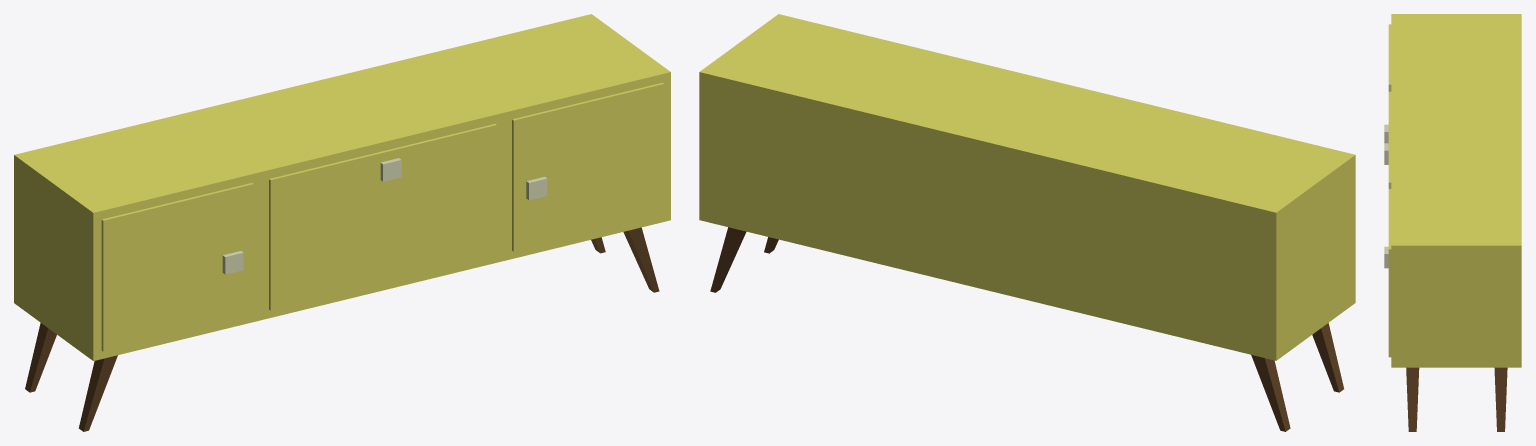
File: Cabinet.fbx
3 renders of one model, left to right at view 1: azimuth 30°, elevation 25°; view 2: azimuth 150°, elevation 25°; view 3: azimuth 270°, elevation 25°, orthographic. The views are drawn at different scales.
Parts seen in each view (by area): view 1: Cabinet; view 2: Cabinet; view 3: Cabinet.
Boxes of the visible parts, x1,y1,x2,y2 form: Cabinet: [14, 14, 670, 431]; Cabinet: [699, 14, 1355, 431]; Cabinet: [1384, 14, 1521, 431].
Bounding box in the file's own units: 4.08 × 1.53 × 1.02.
